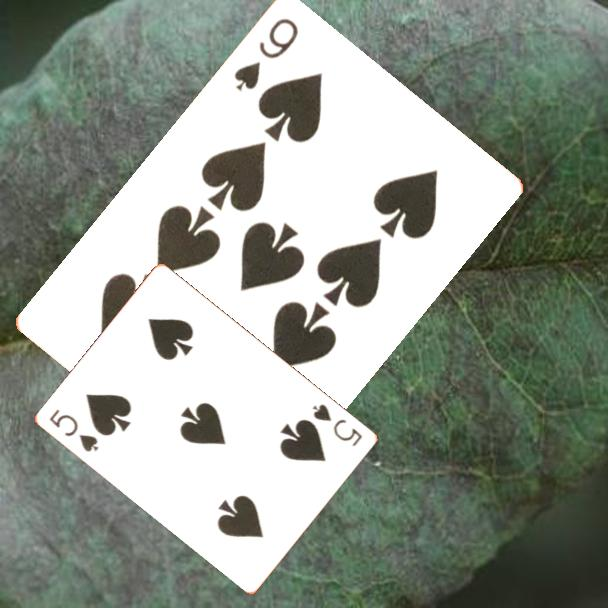s05: (46, 405, 102, 455), (309, 400, 366, 449)
s09: (230, 15, 302, 95)
